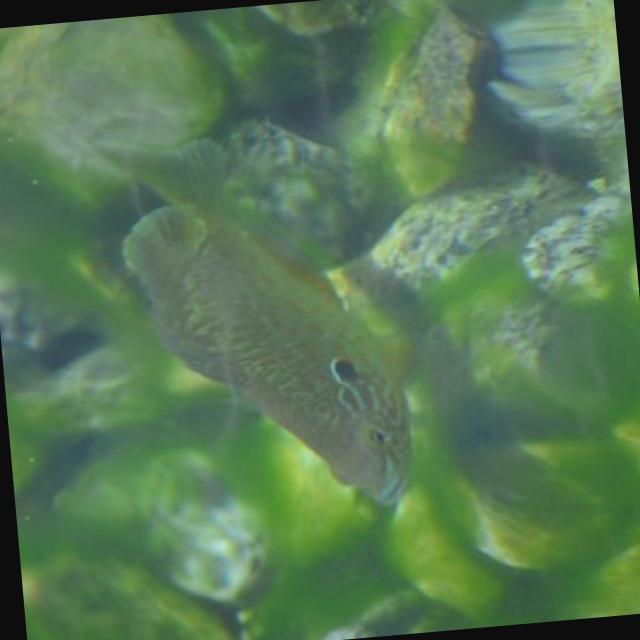Gunes Levregi: (84, 112, 424, 530)
